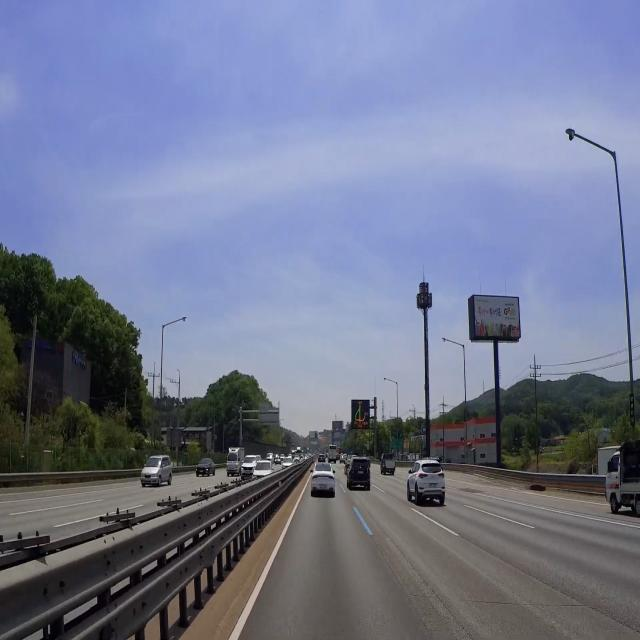car: (354, 466, 369, 479), (316, 482, 331, 495), (426, 482, 441, 494), (143, 477, 153, 486)
